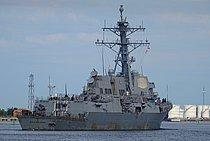MIL_Ship: (11, 64, 173, 133)
